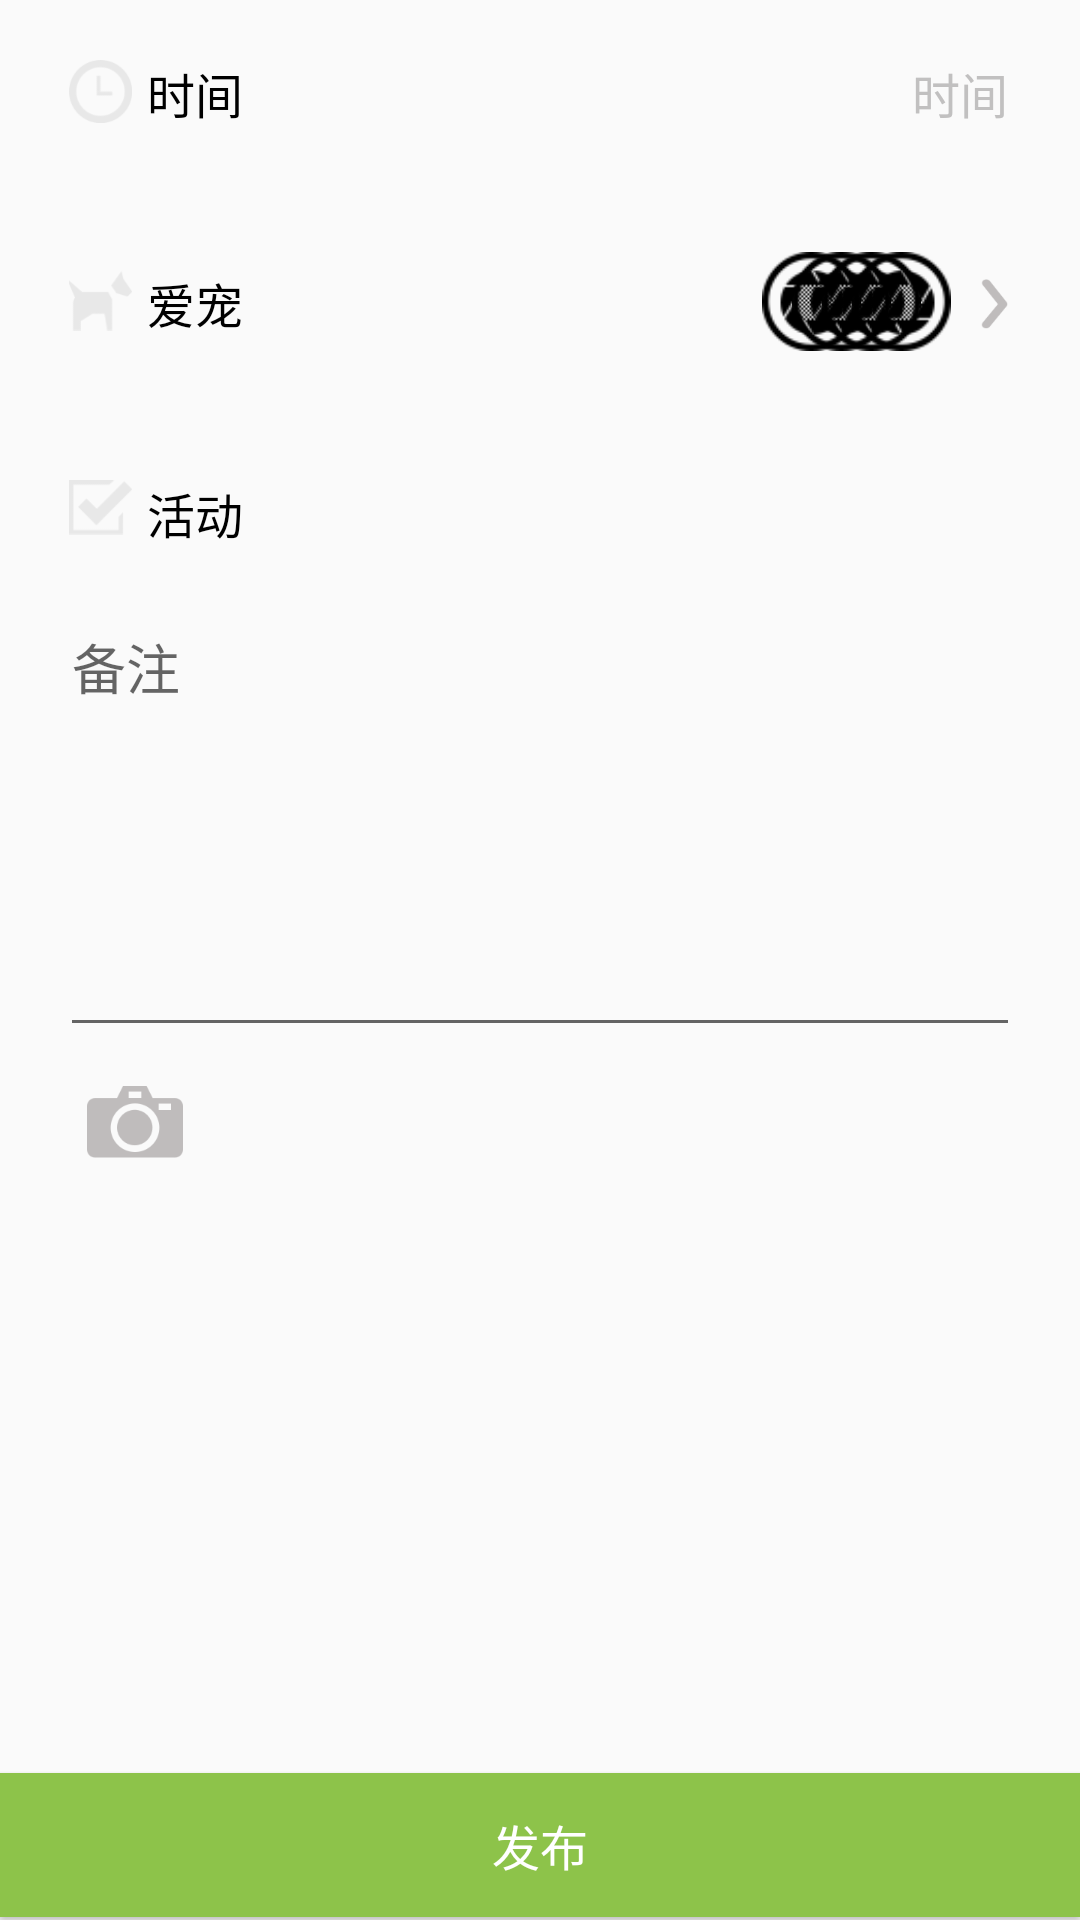

Icons on this 1080 × 1920 Android screen, each with its box as (x1, y1, x2, y2):
camera: (87, 1086, 183, 1158)
rightarrow: (982, 279, 1007, 328)
